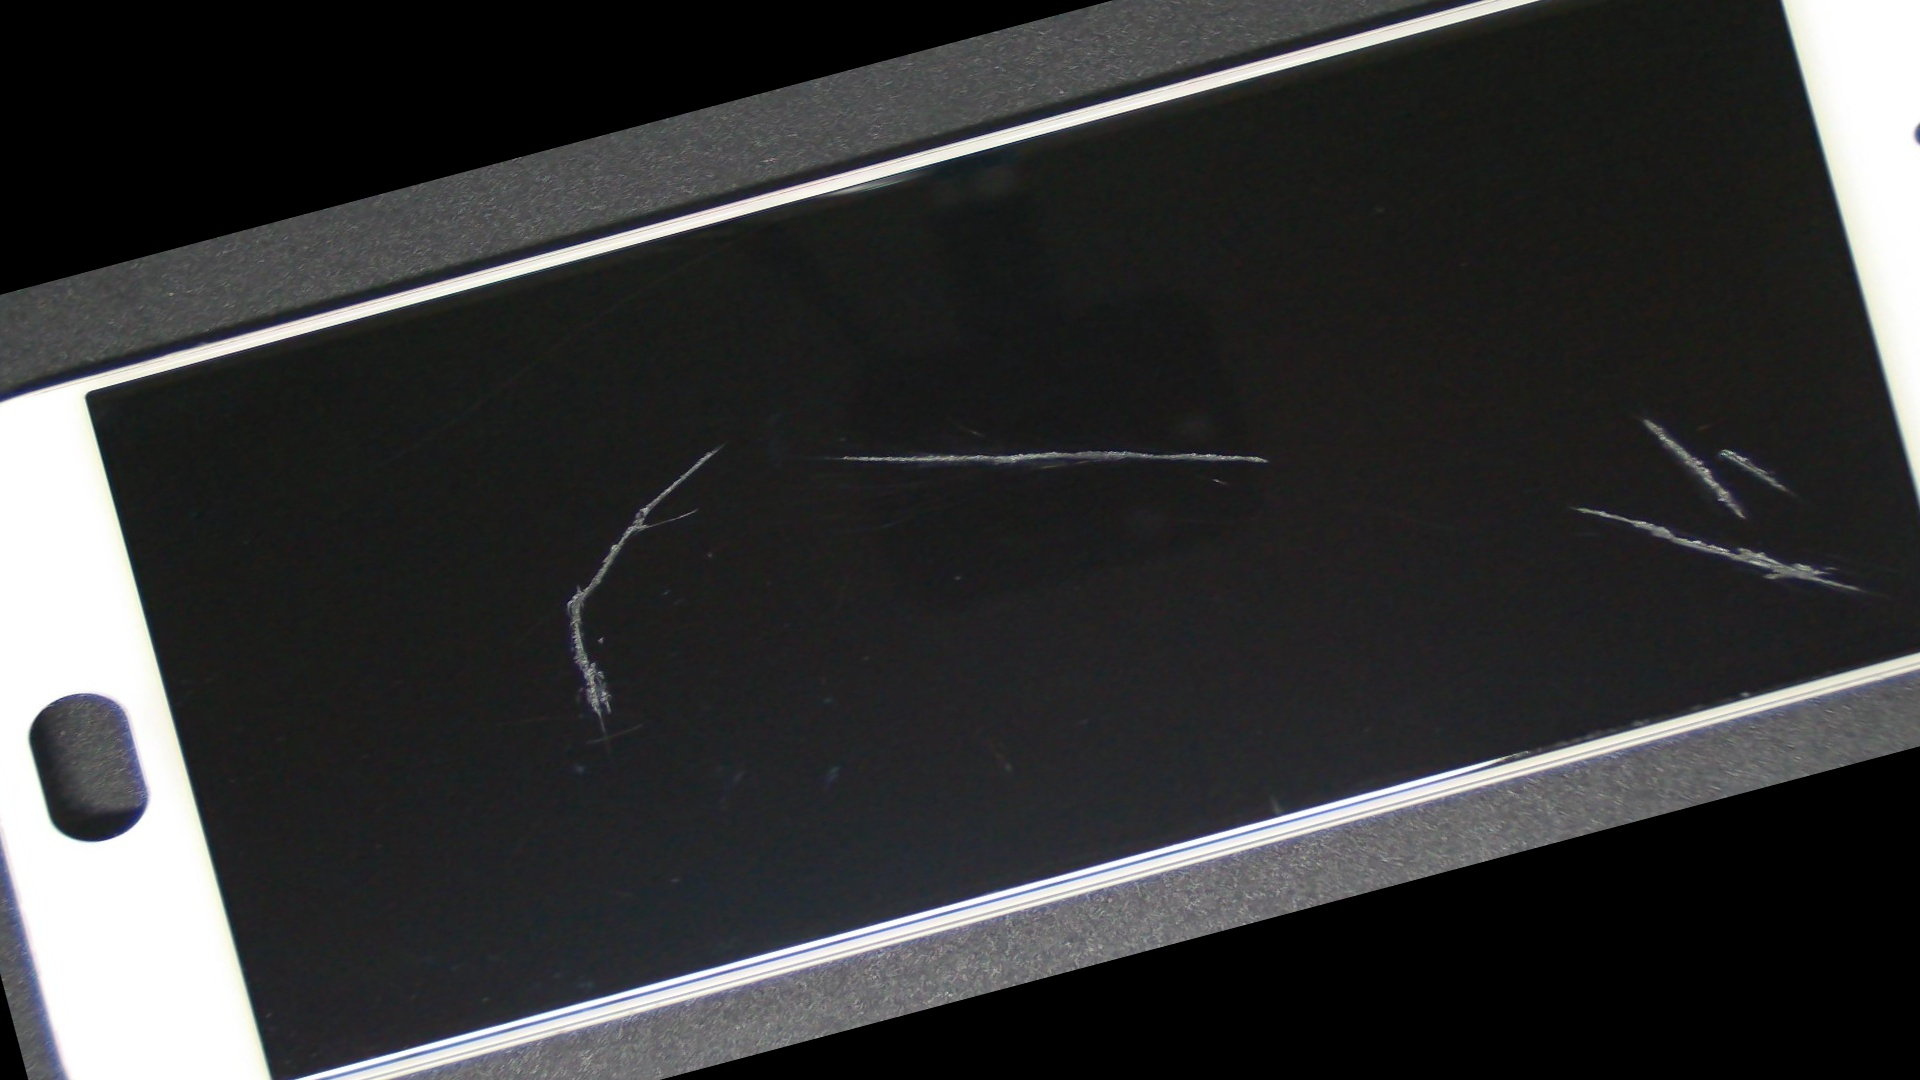oil: (692, 55, 1920, 1015), (777, 50, 1920, 964), (737, 26, 1920, 899), (330, 160, 1324, 754), (280, 175, 1172, 708)
